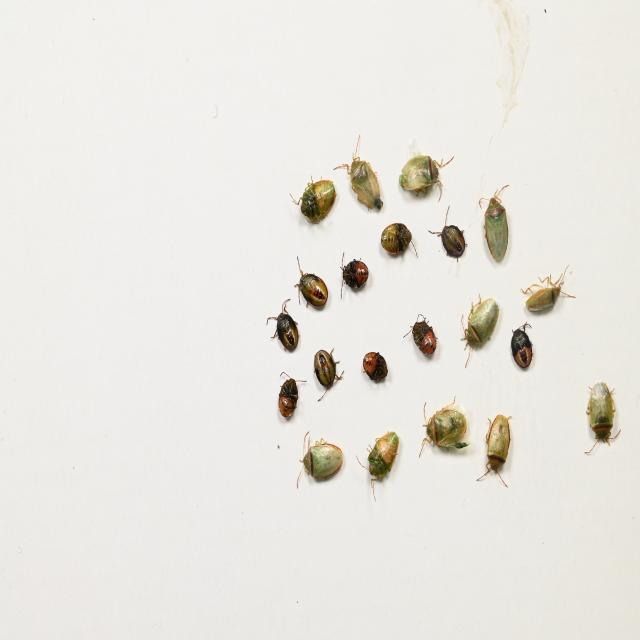stinkbug: (333, 132, 386, 211), (417, 392, 470, 461), (356, 429, 399, 502), (295, 428, 345, 490), (460, 294, 500, 371), (396, 151, 455, 203), (475, 411, 513, 489), (520, 266, 578, 316), (584, 381, 622, 456), (477, 182, 510, 266), (288, 173, 339, 226)
